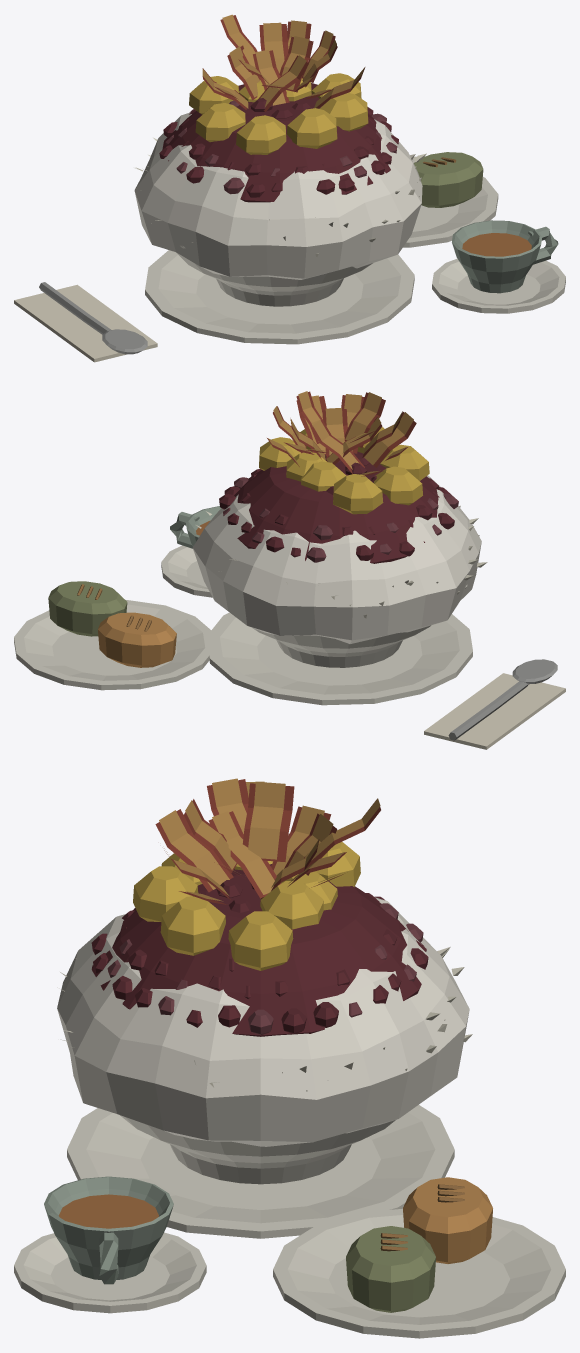
The model's file is bingsu.glb.
3 views of the same model, one above another, from view 1: azimuth 30°, elevation 25°; view 2: azimuth 150°, elevation 25°; view 3: azimuth 270°, elevation 25° (orthographic). The views are drawn at different scales.
Parts seen in each view (by area): view 1: DamccotBingsu; view 2: DamccotBingsu; view 3: DamccotBingsu.
Boxes of the visible parts, bbox=[...] form: DamccotBingsu: bbox=[14, 14, 565, 362]; DamccotBingsu: bbox=[14, 391, 565, 749]; DamccotBingsu: bbox=[14, 778, 565, 1338].
Bounding box in the file's own units: 0.5685 × 0.2946 × 0.407.
